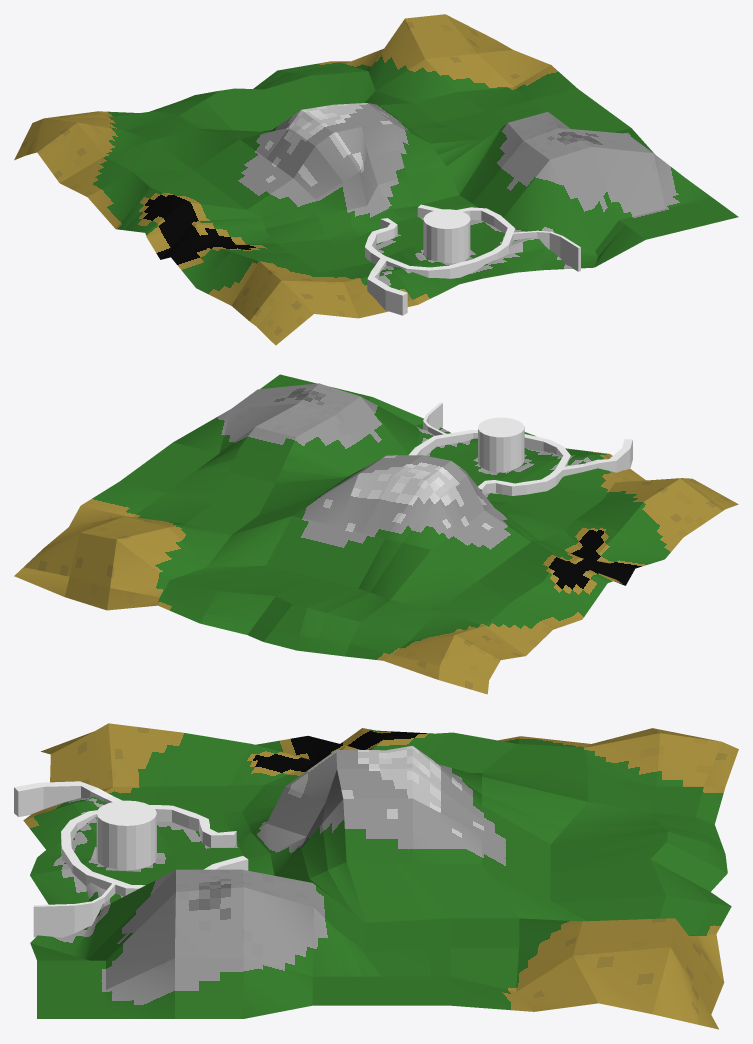
File: map.gltf
The picture shows the model from 3 angles, top to bottom: view 1: azimuth 30°, elevation 25°; view 2: azimuth 150°, elevation 25°; view 3: azimuth 270°, elevation 25°; orthographic projection. The views are drawn at different scales.
Parts seen in each view (by area): view 1: Plane, Cube, Cylinder; view 2: Plane, Cube, Cylinder; view 3: Plane, Cube, Cylinder.
Boxes of the visible parts, <box> form: Plane: <box>14,14,738,345</box>; Cube: <box>365,204,580,315</box>; Cylinder: <box>423,209,470,263</box>; Plane: <box>14,374,738,694</box>; Cube: <box>409,402,632,495</box>; Cylinder: <box>478,417,524,472</box>; Plane: <box>23,723,738,1029</box>; Cube: <box>14,781,248,937</box>; Cylinder: <box>96,800,156,870</box>.
Size of the model in its own units: 58.18 by 10.66 by 60.23.
Materials: 3 (1 with a texture image).
